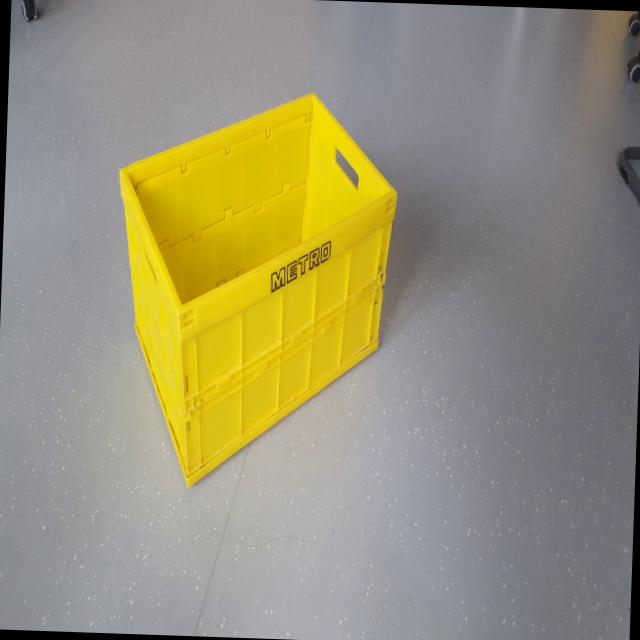box: (100, 76, 401, 502)
